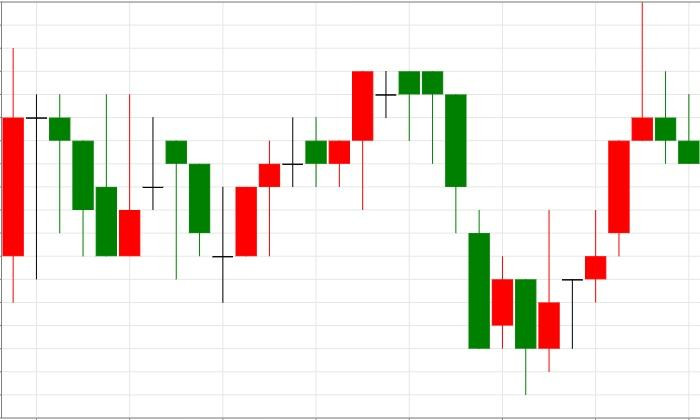hanging_man_fall: (211, 71, 444, 303), (119, 95, 187, 280)
inverse_hammer_rise: (1, 48, 141, 302)
shooting_star_fall: (514, 2, 654, 395)
three_black_crows_fall: (211, 70, 491, 349)
